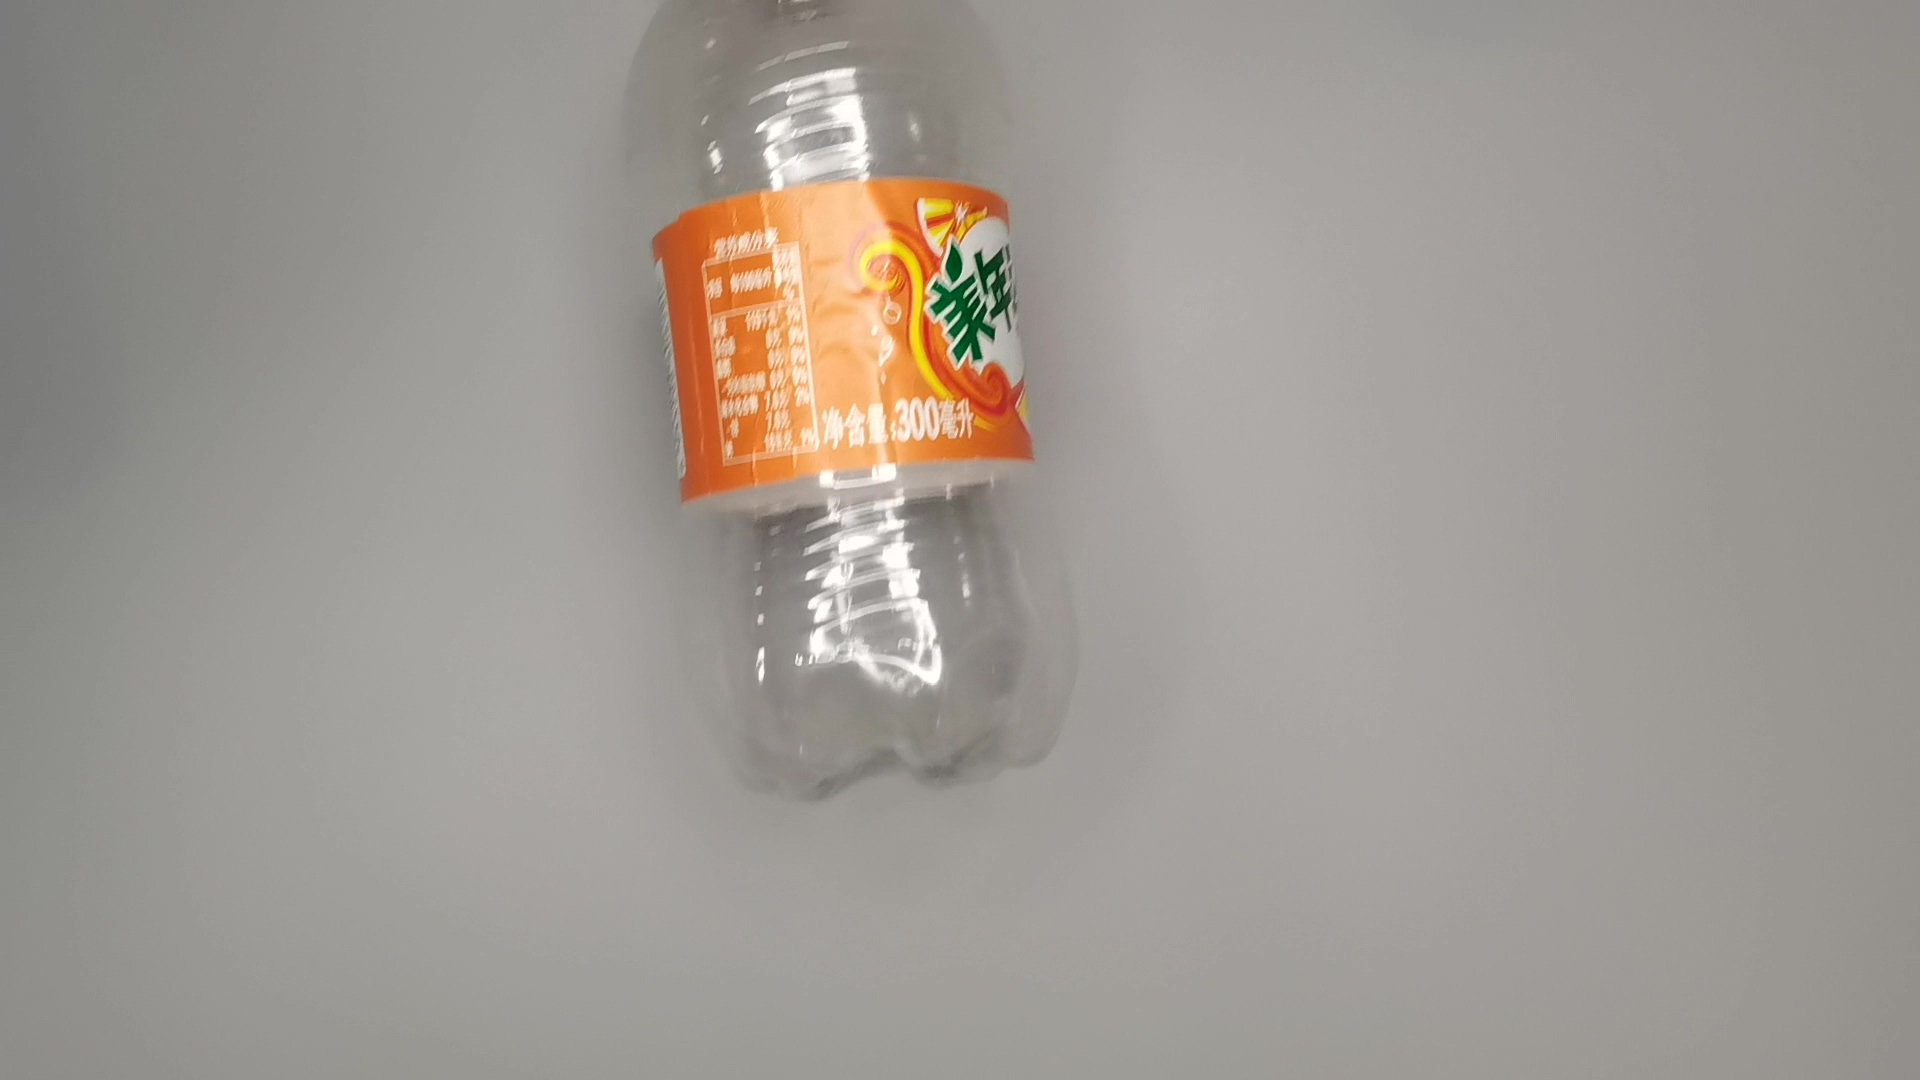bottle: (611, 1, 1092, 796)
